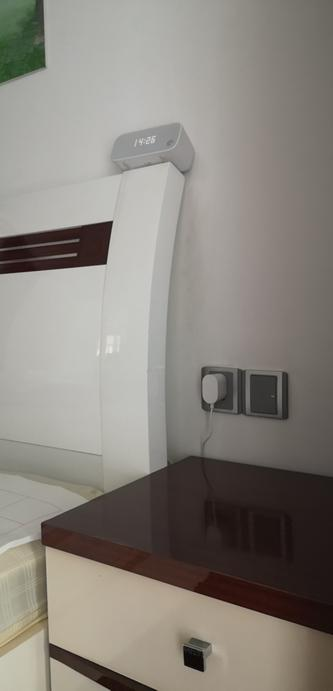switch: (247, 376, 282, 407)
